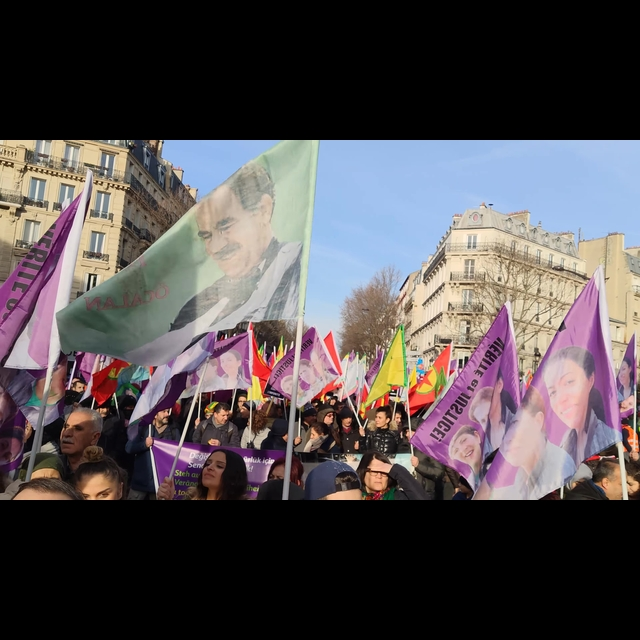PKK: (408, 339, 454, 412)
